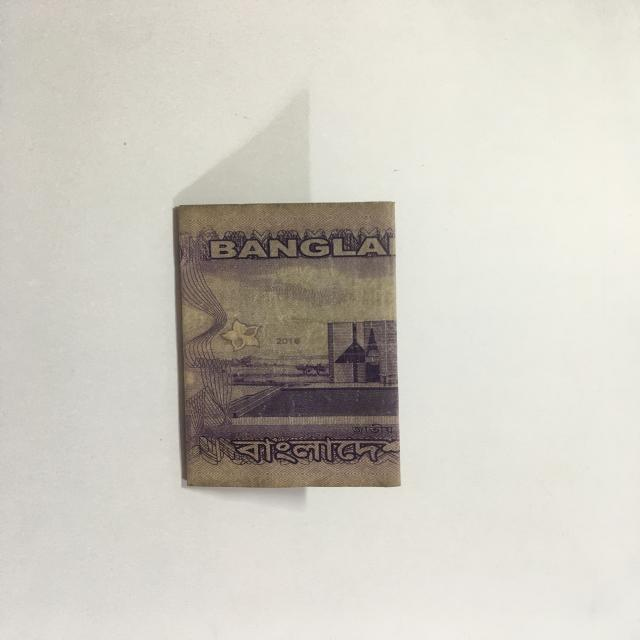Taka: (169, 194, 411, 496)
